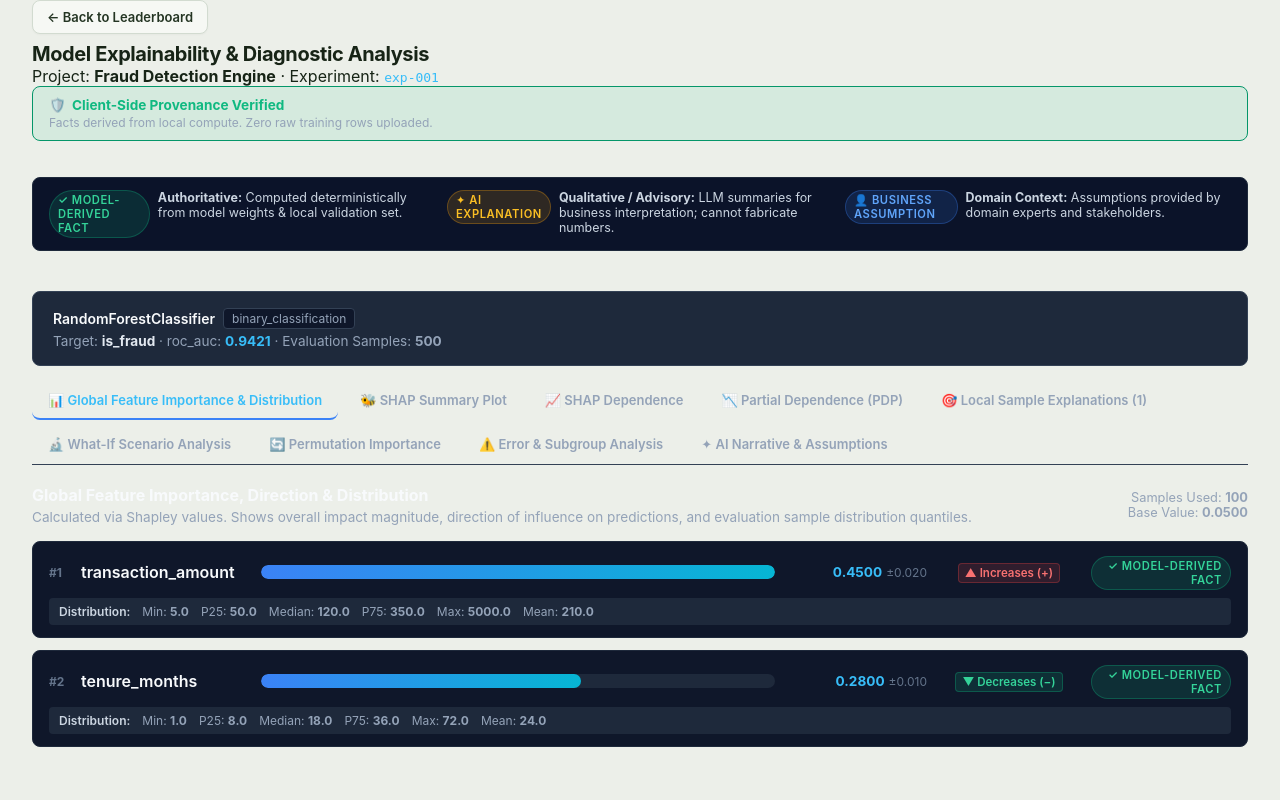
Scenario: ExplainabilityView › navigates between SHAP, permutation, local sample, error analysis, and AI narrative tabs
The image size is (1280, 800).
expect the heading "RandomForestClassifier" is shown: met, box [53,310,215,327]
# Switch to Permutation Importance tab
Click the button "🔄 Permutation Importance". click: (355, 445)
box: [253,426,457,464]
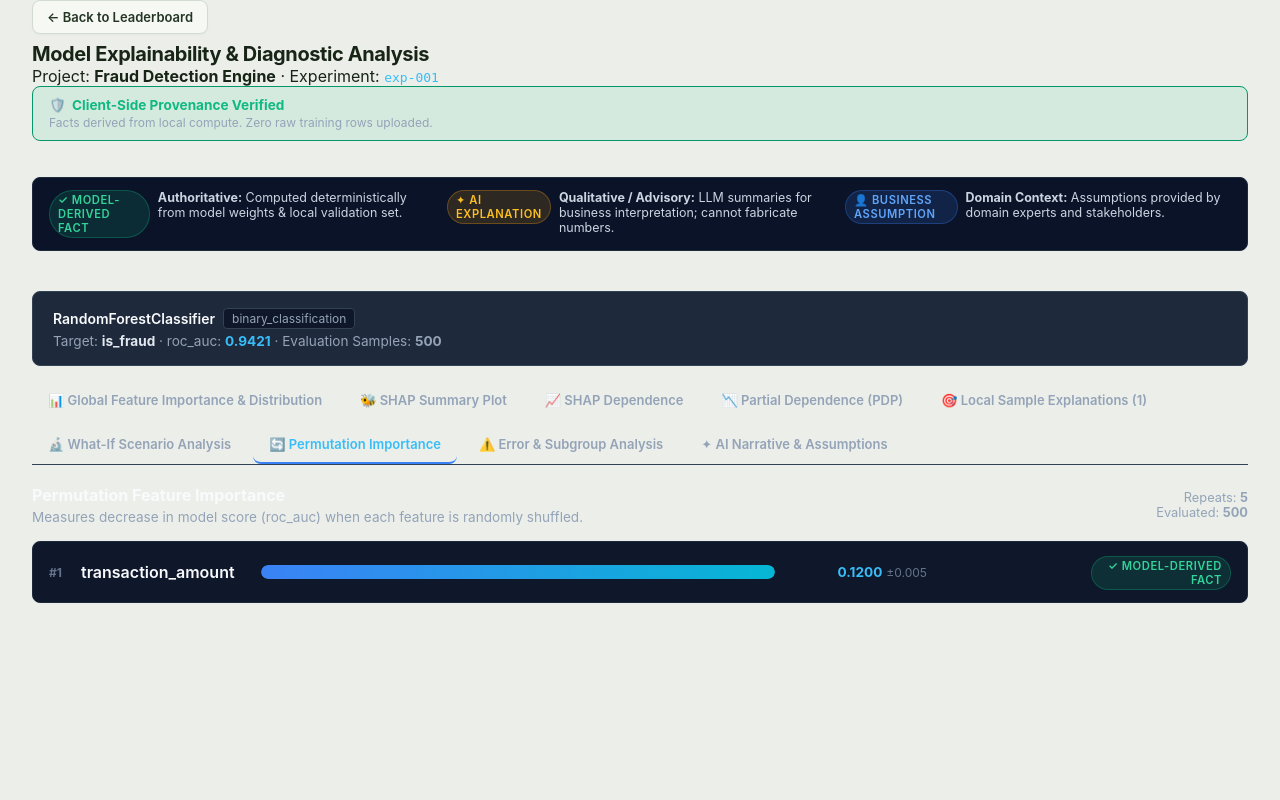
# Switch to Local Explanations tab and check Prediction, Probability, Top factors
Click the button "🎯 Local Sample Explanations (1)". click: (1044, 401)
box: [925,382,1163,420]
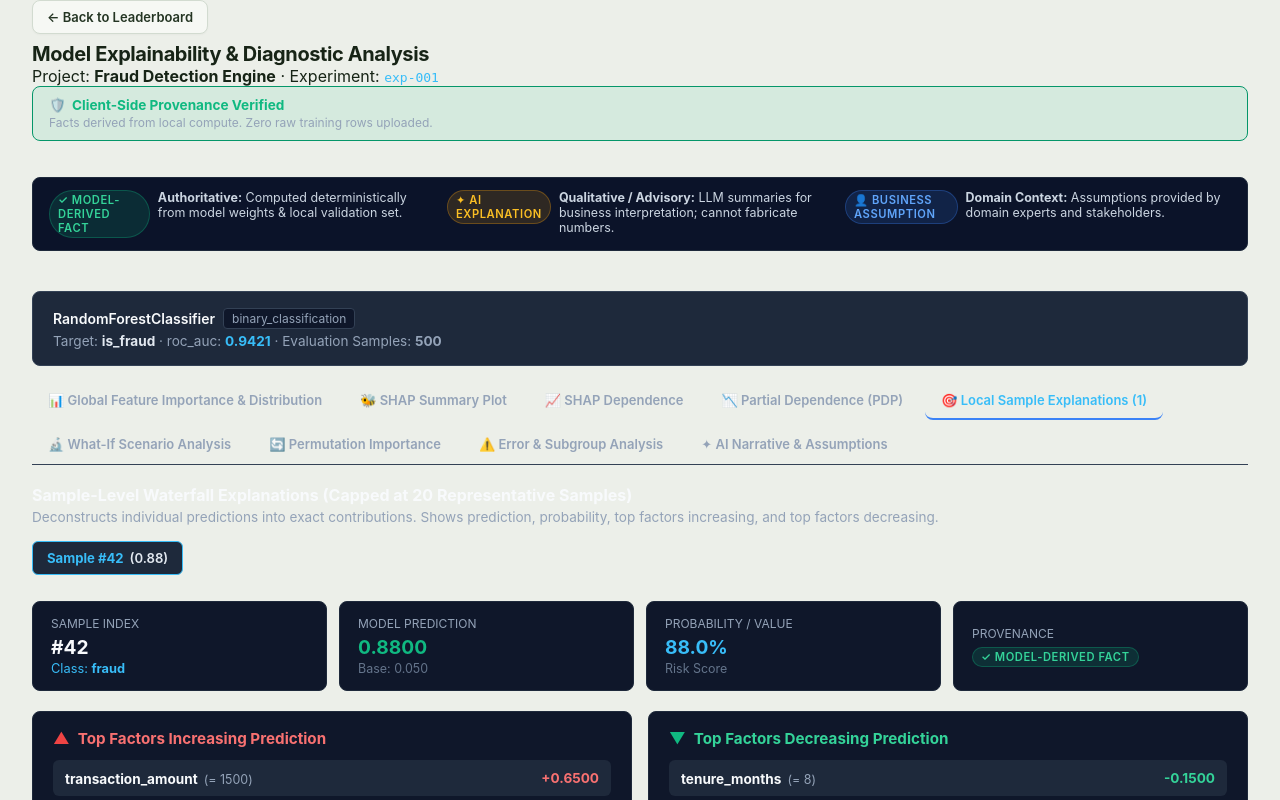
expect the button "Sample #42(0.88)" is shown: met, box [32,541,183,575]
expect the heading "Top Factors Increasing Prediction" is shown: met, box [78,728,326,748]
expect the heading "Top Factors Decreasing Prediction" is shown: met, box [694,728,948,748]
# Switch to Error Analysis tab
Click the button "⚠️ Error & Subgroup Analysis". click: (571, 445)
box: [463,426,679,464]
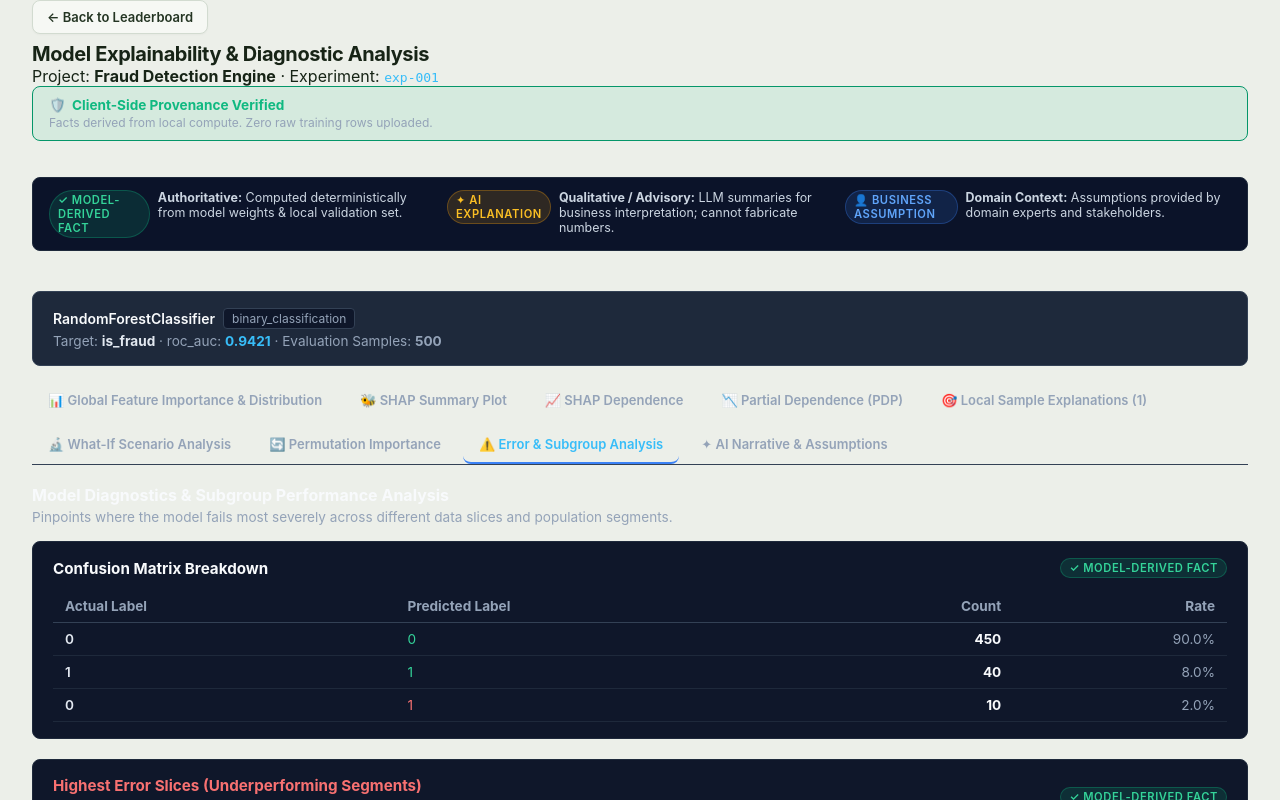
expect the heading "Confusion Matrix Breakdown" is shown: met, box [53,558,268,578]
expect the heading "Highest Error Slices (Underperforming Segments)" is shown: met, box [53,776,422,795]
# Switch to AI Narrative tab
Click the button "✦ AI Narrative & Assumptions". click: (794, 445)
box: [685,426,904,464]
(page scrolled)
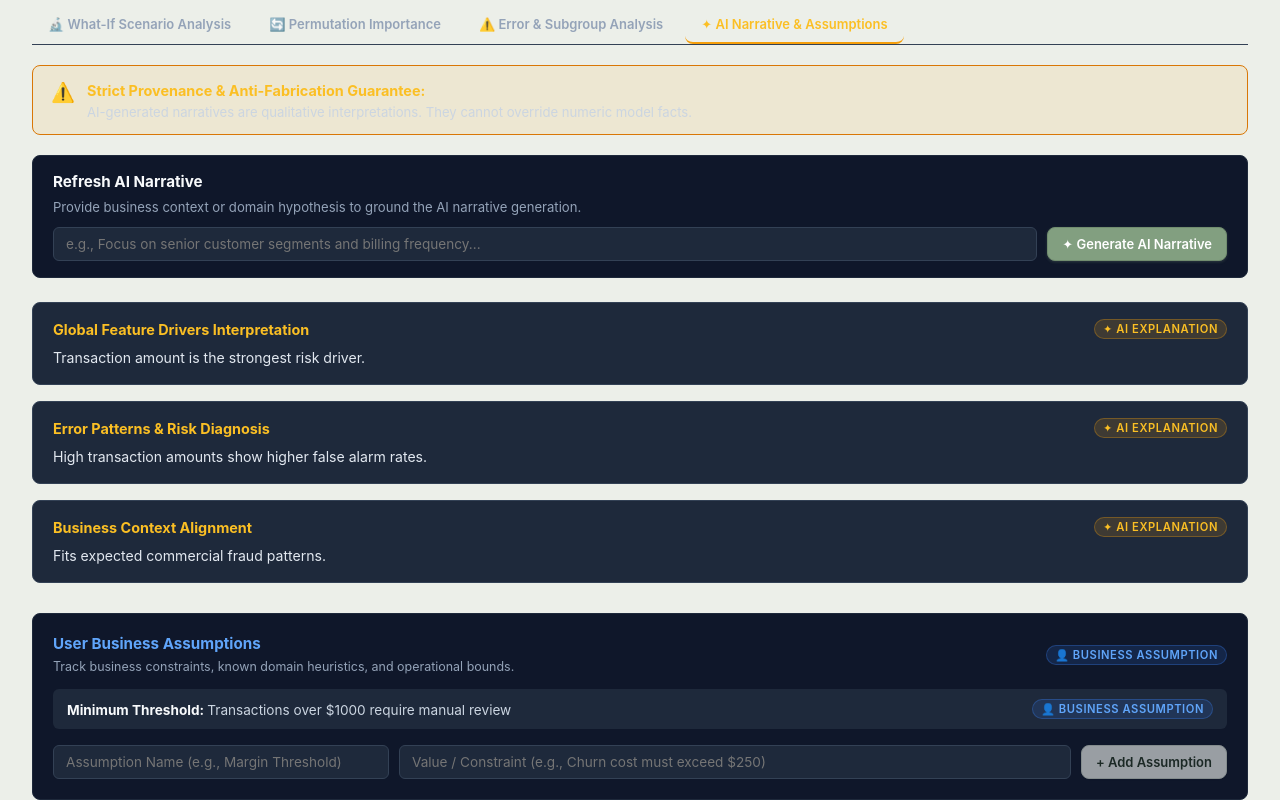
expect the text "Strict Provenance & Anti-Fabrication Guarantee:" is shown: met, box [87,82,425,99]
expect the text "Transaction amount is the strongest risk driver." is shown: met, box [53,349,365,366]
expect the text "Minimum Threshold:" is shown: met, box [67,702,207,718]
